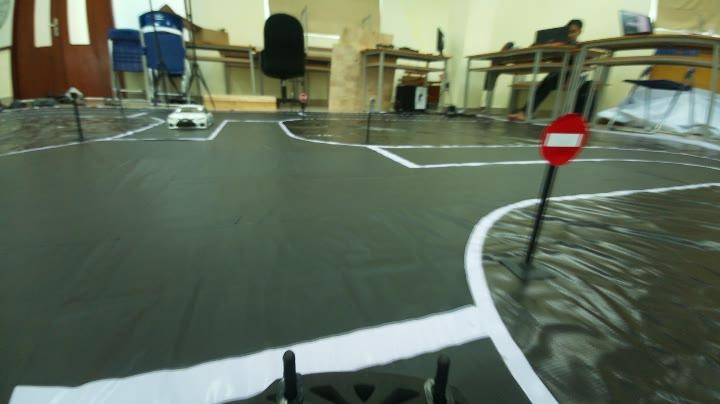car: (163, 102, 214, 136)
no_entry: (532, 110, 592, 169)
